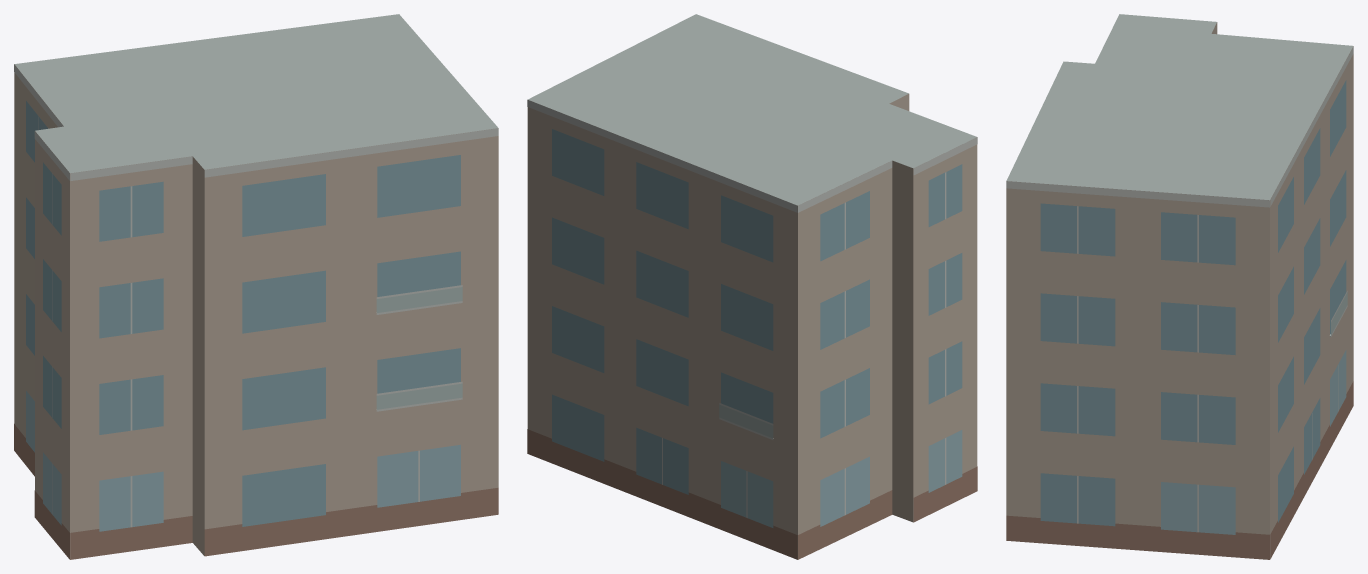
Rendered from survey-upis-32754776.glb.
3 views of the same model, side by side, from view 1: azimuth 30°, elevation 25°; view 2: azimuth 150°, elevation 25°; view 3: azimuth 270°, elevation 25° (orthographic). The views are drawn at different scales.
Visible parts, largest first — view 1: survey-upis-32754776.tmp; view 2: survey-upis-32754776.tmp; view 3: survey-upis-32754776.tmp.
Part boxes in pixels (x1,y1,x2,y2): survey-upis-32754776.tmp: (14, 14, 498, 559); survey-upis-32754776.tmp: (527, 14, 977, 559); survey-upis-32754776.tmp: (1006, 14, 1353, 559).
Bounding box in the file's own units: 13.22 × 11.9 × 10.42.
